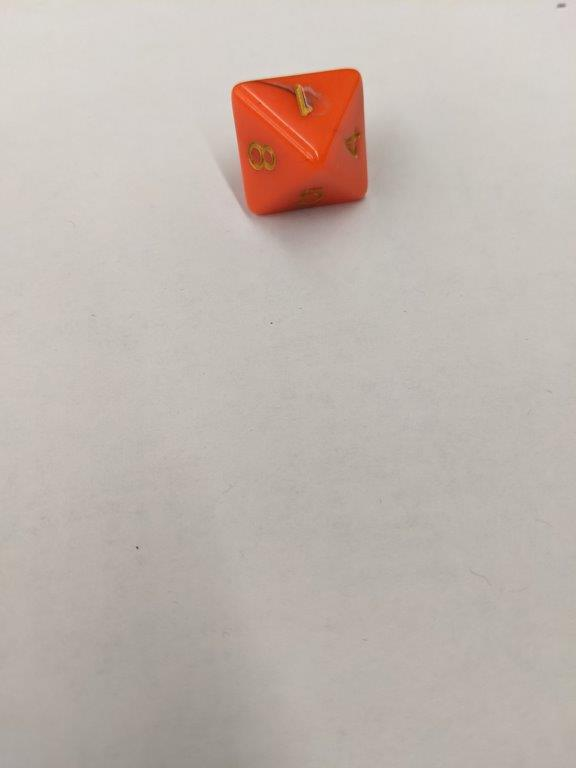d8-1: (231, 68, 368, 218)
